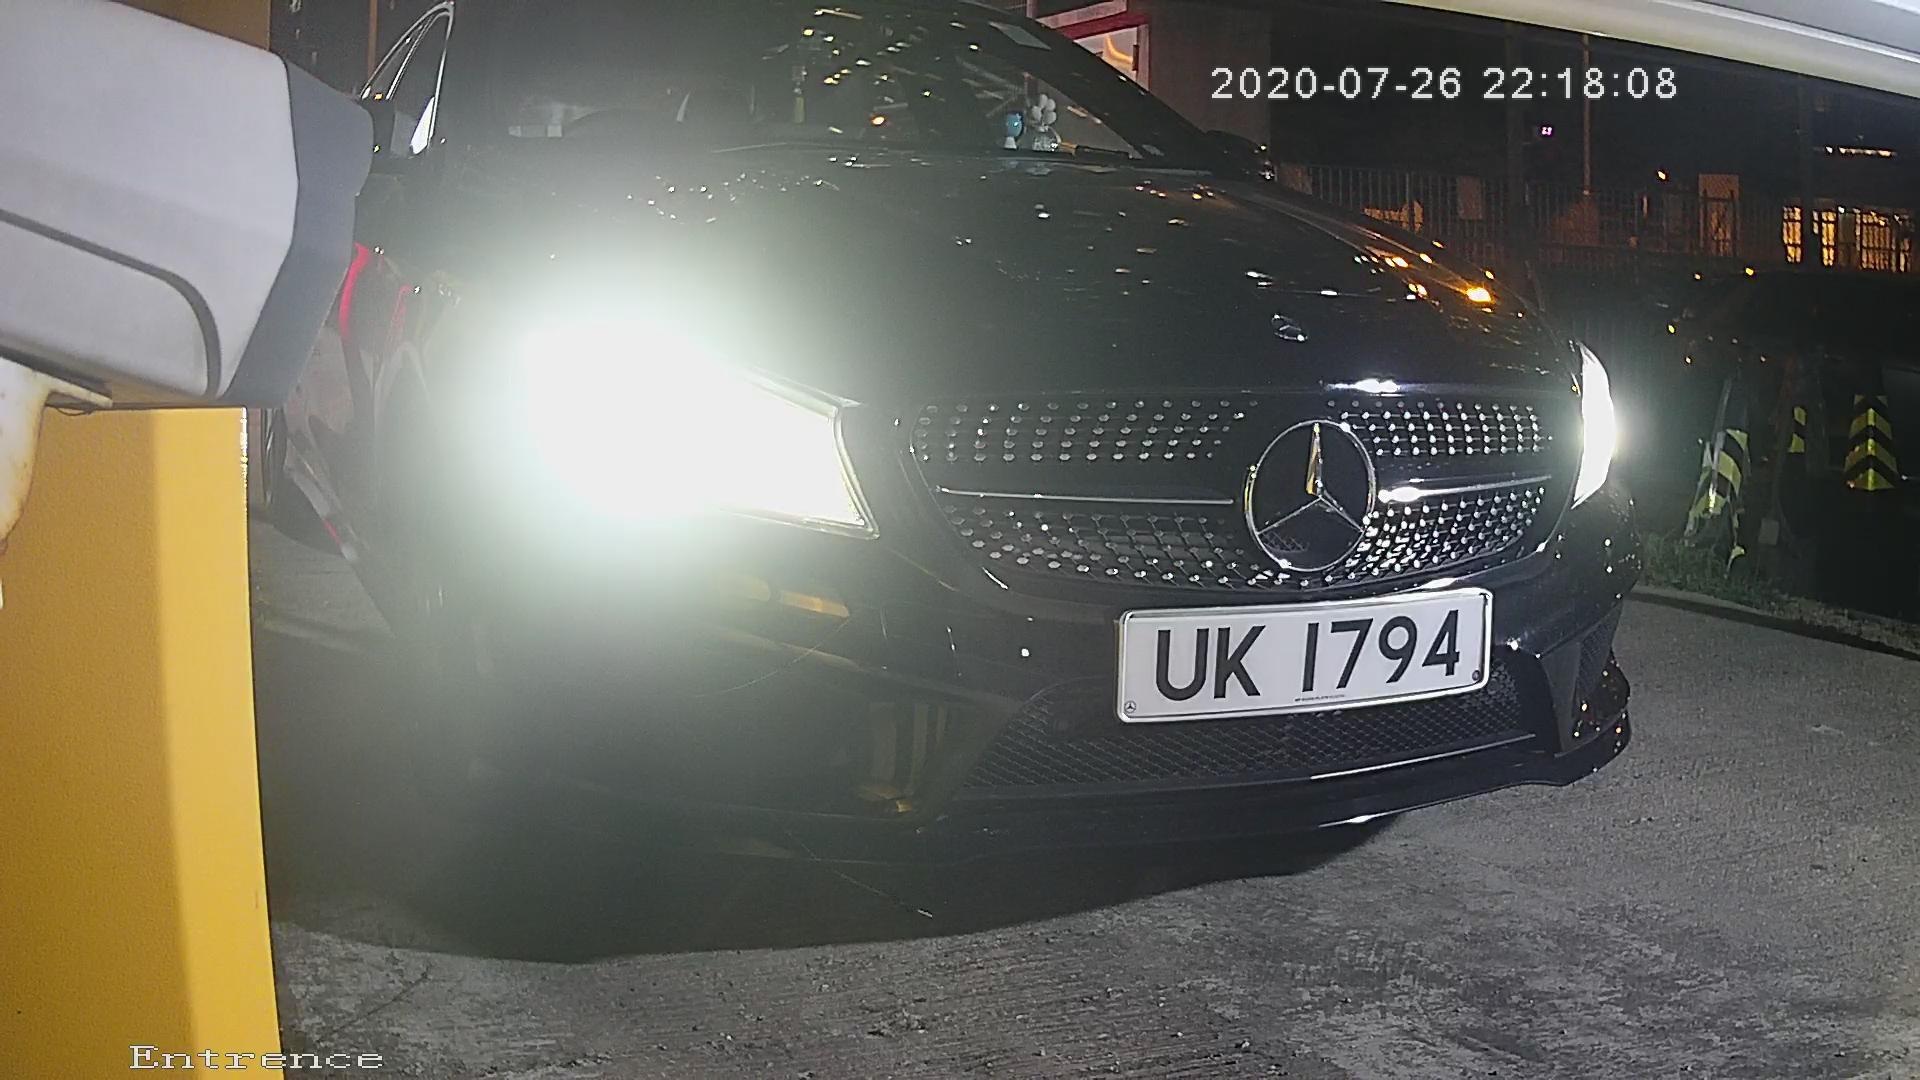Car: (61, 49, 1749, 902)
License Plate: (1098, 579, 1500, 729)
